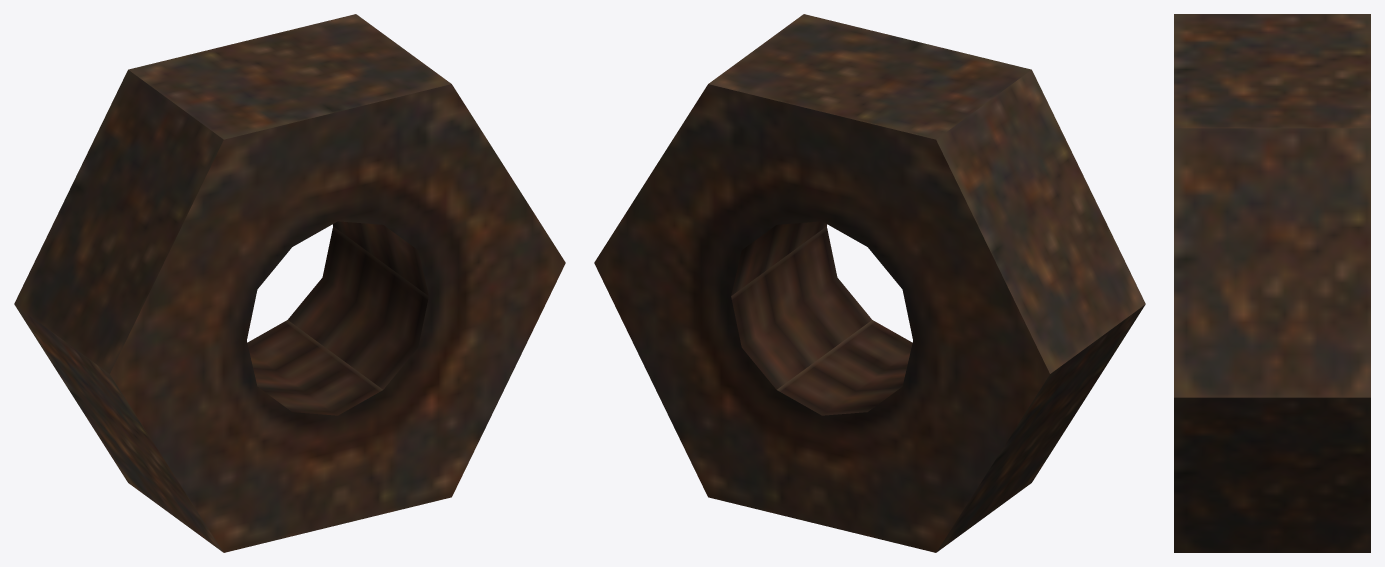
The model's file is hexagon_nut_mx_2_1.obj.
3 renders of one model, left to right at view 1: azimuth 30°, elevation 25°; view 2: azimuth 150°, elevation 25°; view 3: azimuth 270°, elevation 25°, orthographic. The views are drawn at different scales.
Visible parts, largest first — view 1: hexagon_nut_mx_2_1; view 2: hexagon_nut_mx_2_1; view 3: hexagon_nut_mx_2_1.
Boxes of the visible parts, bbox=[...] form: hexagon_nut_mx_2_1: bbox=[14, 14, 565, 552]; hexagon_nut_mx_2_1: bbox=[594, 14, 1145, 552]; hexagon_nut_mx_2_1: bbox=[1174, 14, 1370, 552].
Bounding box in the file's own units: 0.11 × 0.0953 × 0.04.
